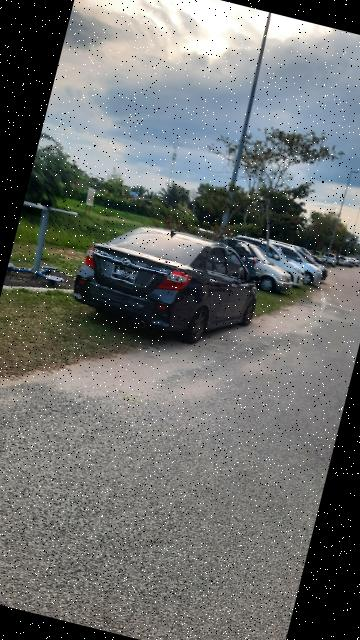License_Plate: (108, 264, 140, 289)
car: (65, 202, 273, 360)
